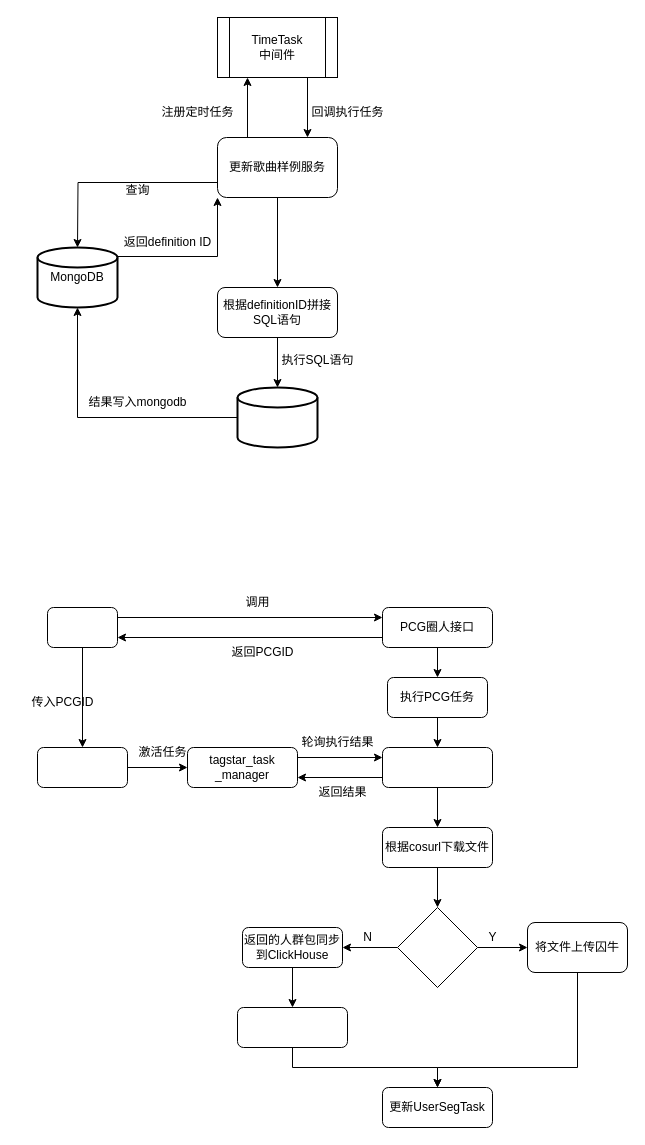
This 645x1145 diagram has some shape labels left out. Each missing label, with the box of its shape:
ClickHouse: (236, 386, 318, 448)
QQ或Q36类型？: (396, 906, 478, 988)
tagstar_admin: (36, 746, 128, 788)
web: (46, 606, 118, 648)
执行结果，返回状态和cosurl: (382, 746, 492, 788)
根据ID拼接SQL语句查询ClickHouse做idMaping: (236, 1006, 348, 1048)
